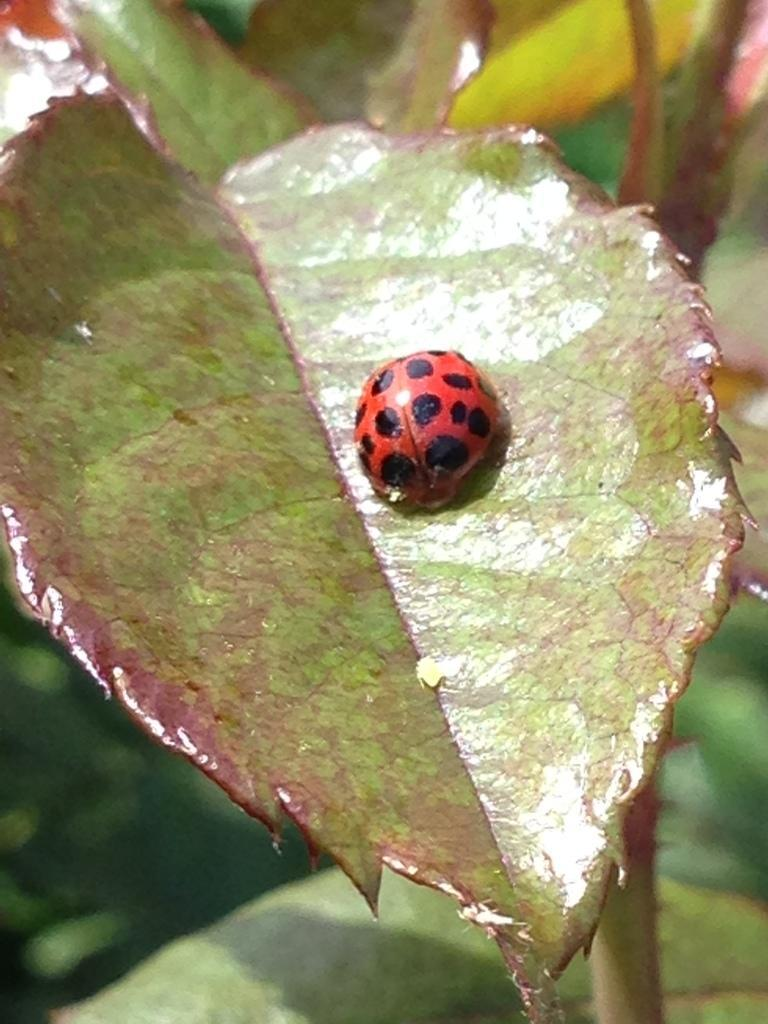ladybug: (351, 344, 506, 514)
